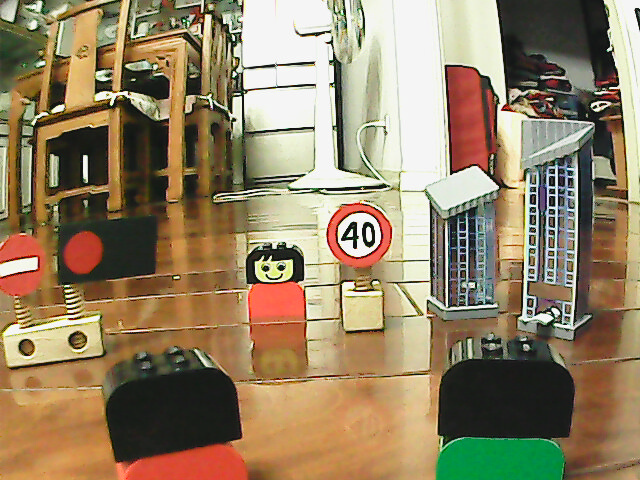Person: (430, 329, 576, 480), (97, 344, 251, 480), (241, 240, 310, 327)
Red Traffic Light: (57, 225, 109, 279)
Speed Limit 40: (324, 199, 395, 270)
Stop Sign: (1, 231, 49, 302)
